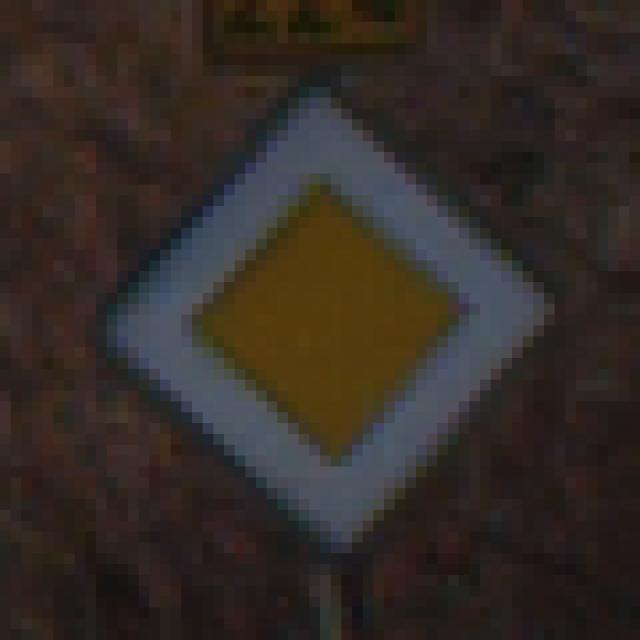Main Road: (65, 55, 588, 587)
